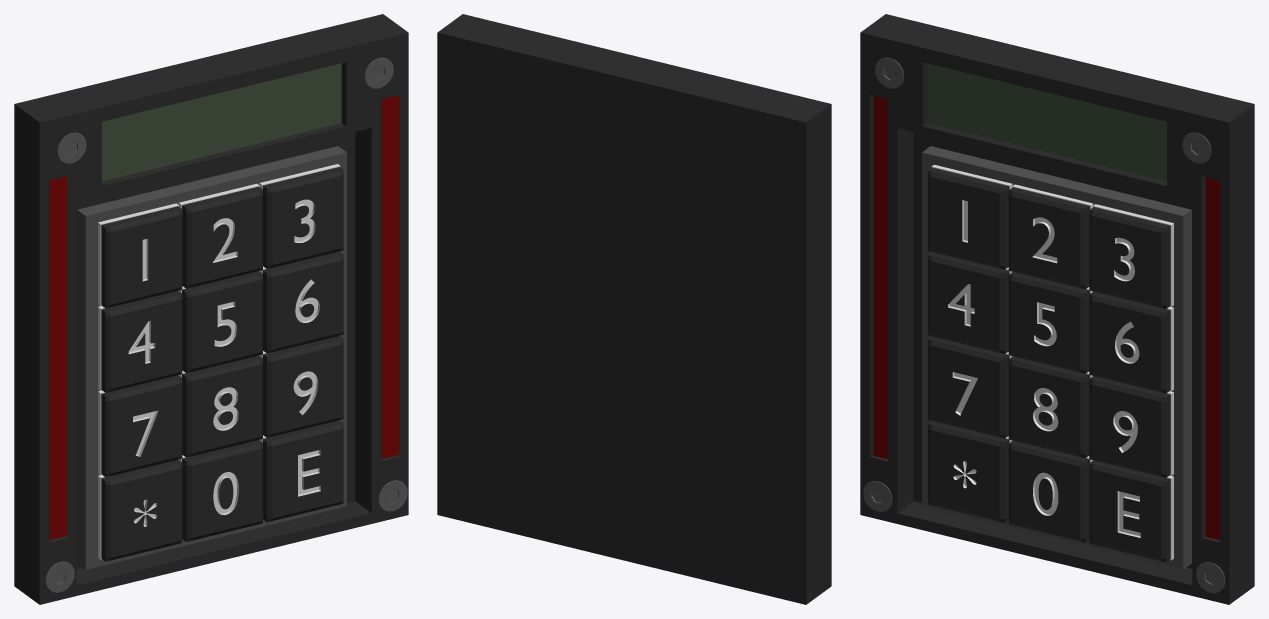
File: numeric_keypad__security_pin_pad.glb
3 renders of one model, left to right at view 1: azimuth 30°, elevation 25°; view 2: azimuth 150°, elevation 25°; view 3: azimuth 330°, elevation 25°, orthographic.
Parts seen in each view (by area): view 1: SM_Kaypad, SM_Num_01, SM_Num_11, SM_Num_07, SM_Num_04, SM_Num_03, SM_Num_02, SM_Num_06, SM_Num_09, SM_Num_Ent, SM_Num_08, SM_Num_05 (+1 smaller); view 2: SM_Kaypad; view 3: SM_Kaypad, SM_Num_02, SM_Num_03, SM_Num_06, SM_Num_08, SM_Num_05, SM_Num_Ent, SM_Num_09, SM_Num_00, SM_Num_01, SM_Num_07, SM_Num_04 (+1 smaller).
Part boxes in pixels (box(x1,y1,x2,y2)): SM_Kaypad: box(14, 14, 408, 604); SM_Num_01: box(101, 206, 182, 308); SM_Num_11: box(101, 459, 182, 561); SM_Num_07: box(101, 375, 182, 477); SM_Num_04: box(101, 291, 182, 392); SM_Num_03: box(262, 167, 343, 268); SM_Num_02: box(182, 186, 262, 288); SM_Num_06: box(262, 251, 343, 353); SM_Num_09: box(262, 336, 343, 437); SM_Num_Ent: box(262, 420, 343, 522); SM_Num_08: box(182, 355, 262, 457); SM_Num_05: box(182, 271, 262, 372); SM_Kaypad: box(437, 14, 831, 604); SM_Kaypad: box(860, 14, 1254, 604); SM_Num_02: box(1008, 187, 1089, 289); SM_Num_03: box(1089, 207, 1170, 308); SM_Num_06: box(1089, 291, 1170, 393); SM_Num_08: box(1008, 356, 1089, 458); SM_Num_05: box(1008, 272, 1089, 373); SM_Num_Ent: box(1089, 460, 1170, 562); SM_Num_09: box(1089, 376, 1170, 477); SM_Num_00: box(1008, 440, 1089, 542); SM_Num_01: box(928, 167, 1009, 269); SM_Num_07: box(928, 336, 1009, 438); SM_Num_04: box(928, 252, 1009, 353).
Bounding box in the file's own units: 0.24 × 0.3 × 0.0306.
